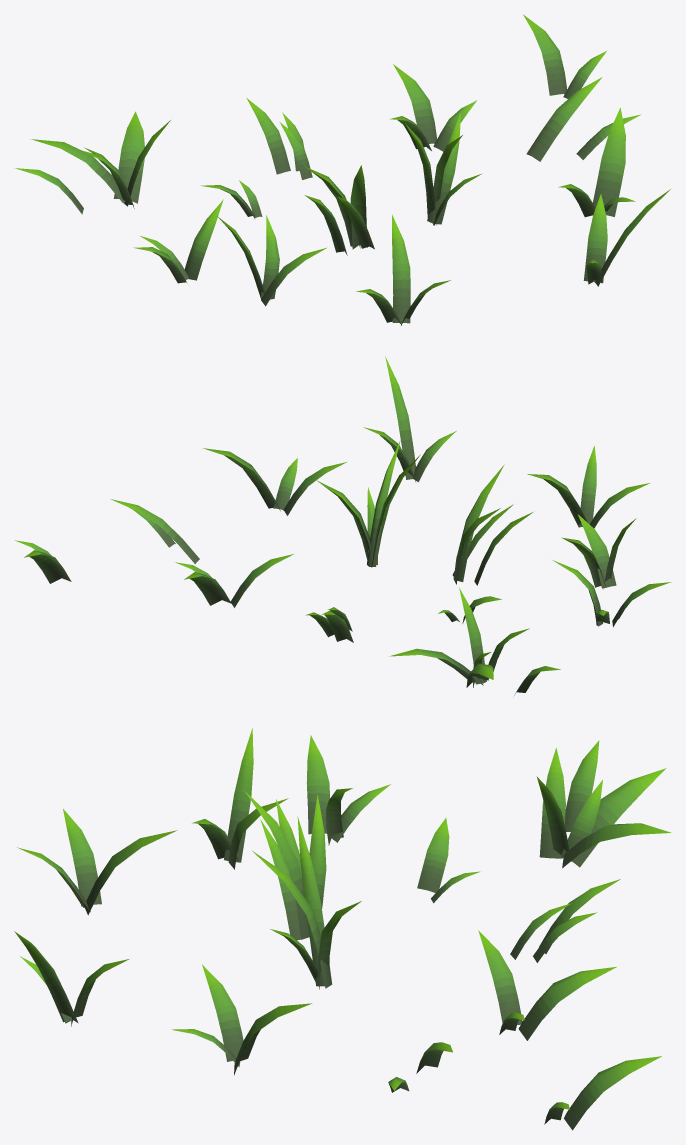
File: Grass_00.FBX
3 renders of one model, top to bottom at view 1: azimuth 30°, elevation 25°; view 2: azimuth 150°, elevation 25°; view 3: azimuth 270°, elevation 25°, orthographic. The views are drawn at different scales.
Parts seen in each view (by area): view 1: Grass_00; view 2: Grass_00; view 3: Grass_00.
Part boxes in pixels (x1=…): Grass_00: x1=14, y1=14, x2=670, y2=325; Grass_00: x1=15, y1=356, x2=671, y2=695; Grass_00: x1=14, y1=728, x2=671, y2=1130.
Bounding box in the file's own units: 3.59 × 0.7127 × 2.85.
